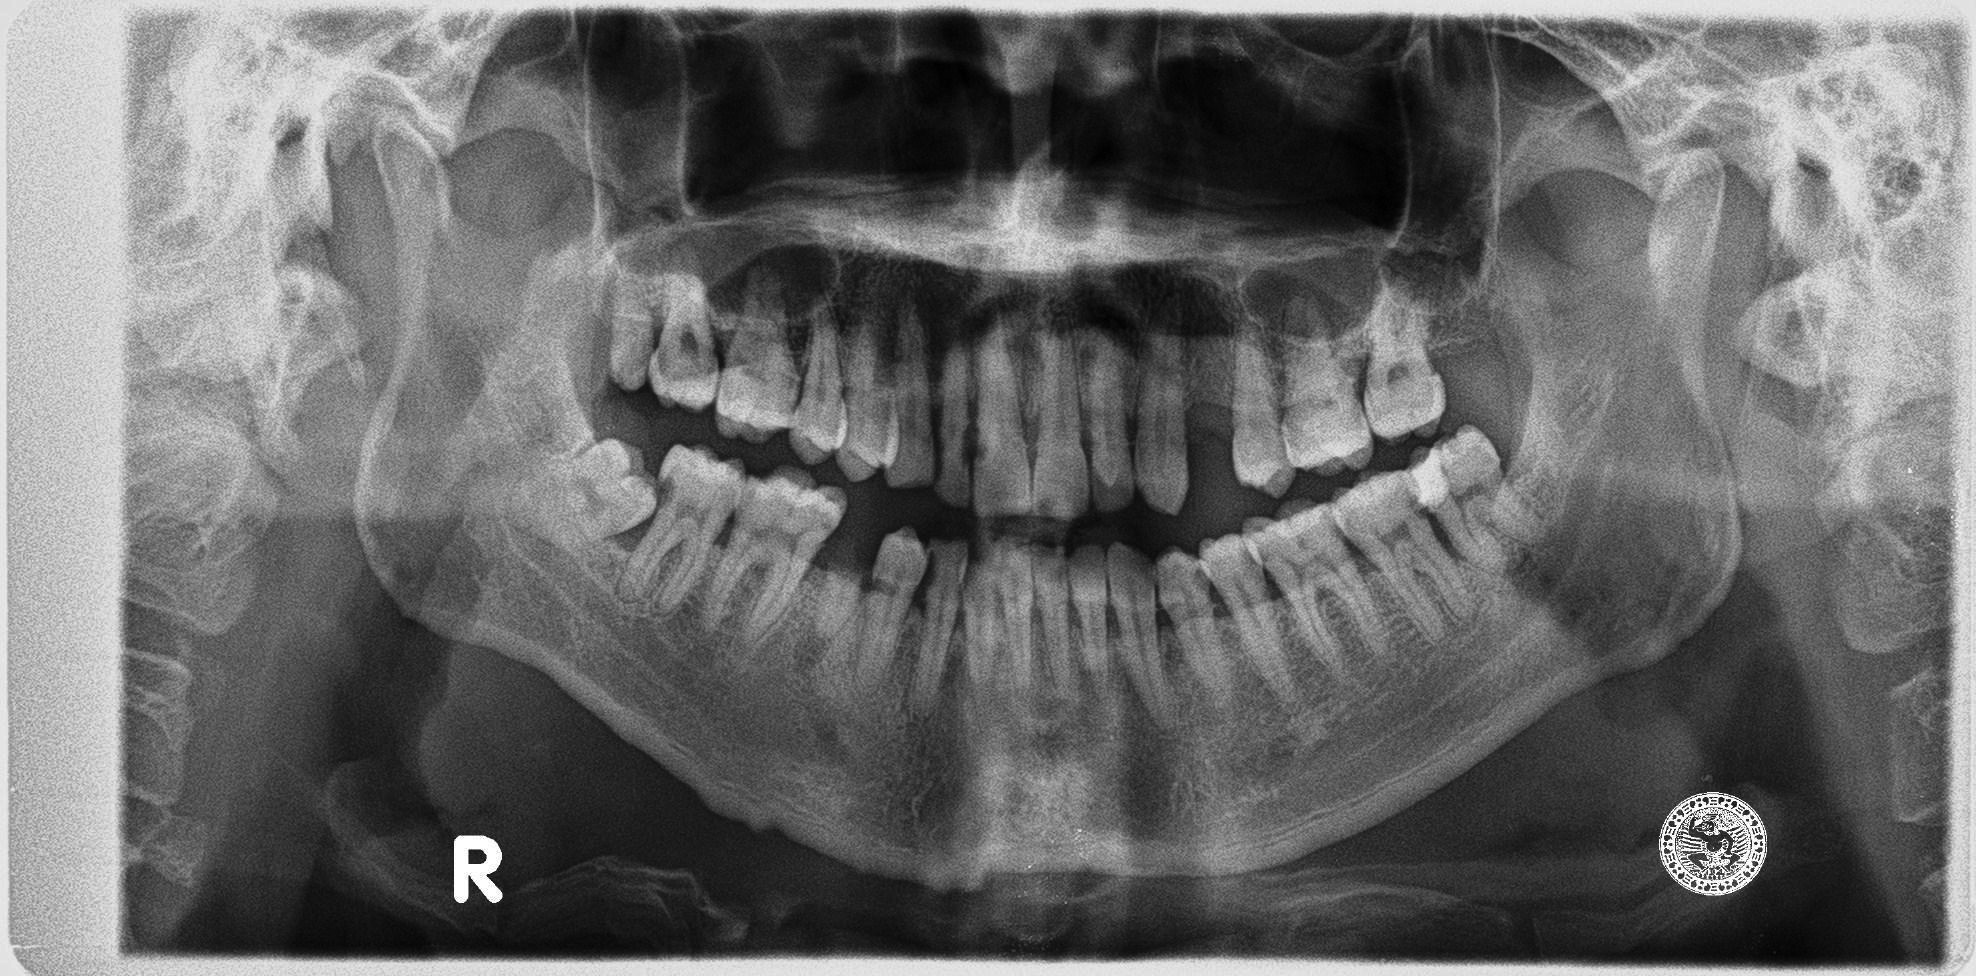Individual Tooth: (1241, 496, 1393, 665), (1330, 472, 1472, 642), (619, 446, 752, 613), (1404, 426, 1548, 572), (709, 470, 846, 619), (1198, 533, 1301, 707), (1277, 291, 1372, 474), (1106, 542, 1182, 736), (715, 275, 800, 440), (1362, 277, 1445, 444), (1157, 549, 1235, 712), (1032, 310, 1090, 521), (1231, 310, 1295, 498), (1135, 293, 1190, 514), (973, 327, 1033, 518), (858, 528, 929, 692), (836, 310, 897, 479), (909, 542, 968, 716), (560, 440, 657, 538), (649, 274, 720, 409), (885, 305, 936, 485), (789, 314, 846, 463), (1088, 335, 1134, 512), (933, 339, 977, 508), (1067, 546, 1110, 697), (1033, 547, 1072, 696), (610, 272, 655, 390), (998, 542, 1031, 685), (963, 556, 998, 683), (815, 571, 861, 636)
